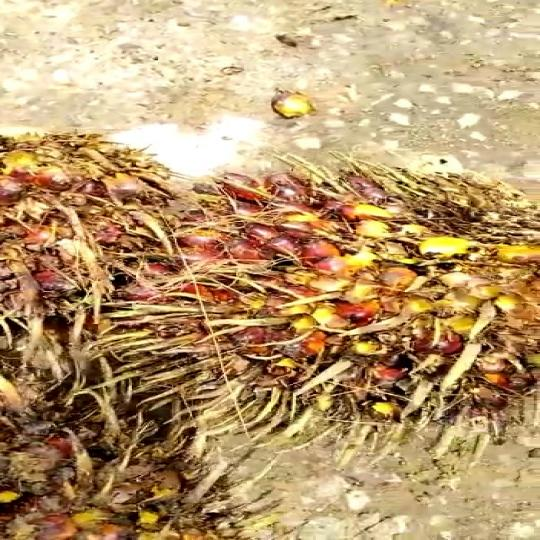masak: (154, 154, 540, 437)
